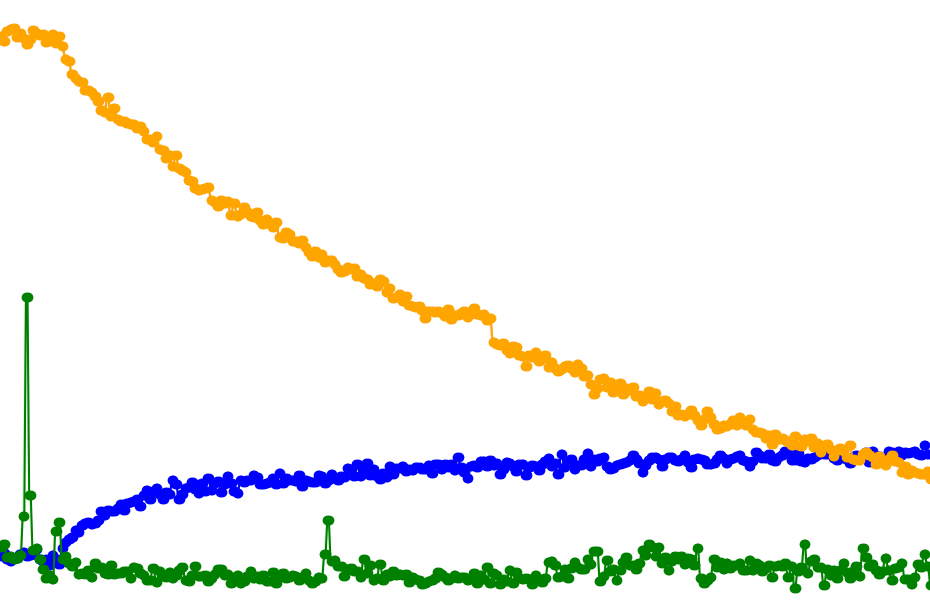CO2 Problem: (311, 0, 583, 616), (777, 0, 930, 616), (349, 0, 466, 616), (466, 0, 583, 616), (661, 0, 777, 616), (77, 0, 155, 616), (155, 0, 233, 616), (233, 0, 311, 616), (583, 0, 661, 616), (699, 0, 777, 616), (777, 0, 855, 616), (0, 0, 77, 616), (855, 0, 930, 616)
Condensation CO2: (349, 0, 544, 616), (777, 0, 930, 616), (661, 0, 777, 616), (77, 0, 155, 616), (155, 0, 233, 616), (583, 0, 661, 616)
Condensation O2: (661, 0, 777, 616), (583, 0, 661, 616)
High CO2: (311, 0, 544, 616), (777, 0, 930, 616), (77, 0, 155, 616), (155, 0, 233, 616), (233, 0, 311, 616), (0, 0, 77, 616), (855, 0, 930, 616)
High O2: (311, 0, 661, 616), (777, 0, 930, 616), (661, 0, 777, 616)
Lid Open: (855, 0, 930, 616)
Low CO2: (311, 0, 661, 616), (349, 0, 583, 616), (466, 0, 583, 616), (661, 0, 777, 616), (77, 0, 155, 616), (155, 0, 233, 616), (233, 0, 311, 616), (583, 0, 661, 616), (777, 0, 855, 616), (0, 0, 77, 616), (855, 0, 930, 616)
Low O2: (661, 0, 930, 616), (777, 0, 930, 616), (777, 0, 855, 616), (855, 0, 930, 616)
Normal: (77, 0, 661, 616), (311, 0, 661, 616), (583, 0, 930, 616), (311, 0, 622, 616), (311, 0, 583, 616), (661, 0, 930, 616), (77, 0, 311, 616), (349, 0, 583, 616), (311, 0, 544, 616), (699, 0, 930, 616), (77, 0, 233, 616), (155, 0, 311, 616), (0, 0, 155, 616), (777, 0, 930, 616), (349, 0, 466, 616), (466, 0, 583, 616), (661, 0, 777, 616), (77, 0, 155, 616), (155, 0, 233, 616), (233, 0, 311, 616), (583, 0, 661, 616), (699, 0, 777, 616), (777, 0, 855, 616), (0, 0, 77, 616), (661, 0, 738, 616), (855, 0, 930, 616)
O2 Problem: (777, 0, 930, 616), (661, 0, 777, 616), (583, 0, 661, 616)
